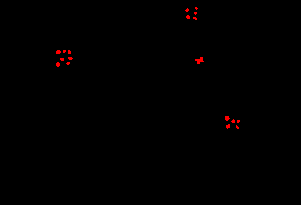Target: (195, 57, 204, 64), (225, 116, 230, 121), (56, 50, 61, 54), (56, 62, 60, 67), (226, 124, 230, 129), (185, 8, 189, 12), (186, 15, 190, 19), (231, 119, 235, 123), (68, 57, 73, 60), (193, 17, 197, 20), (68, 50, 71, 54), (60, 58, 64, 61), (66, 62, 70, 65), (236, 125, 239, 129), (195, 7, 198, 10), (194, 12, 197, 15), (63, 50, 66, 53), (237, 120, 240, 123)
